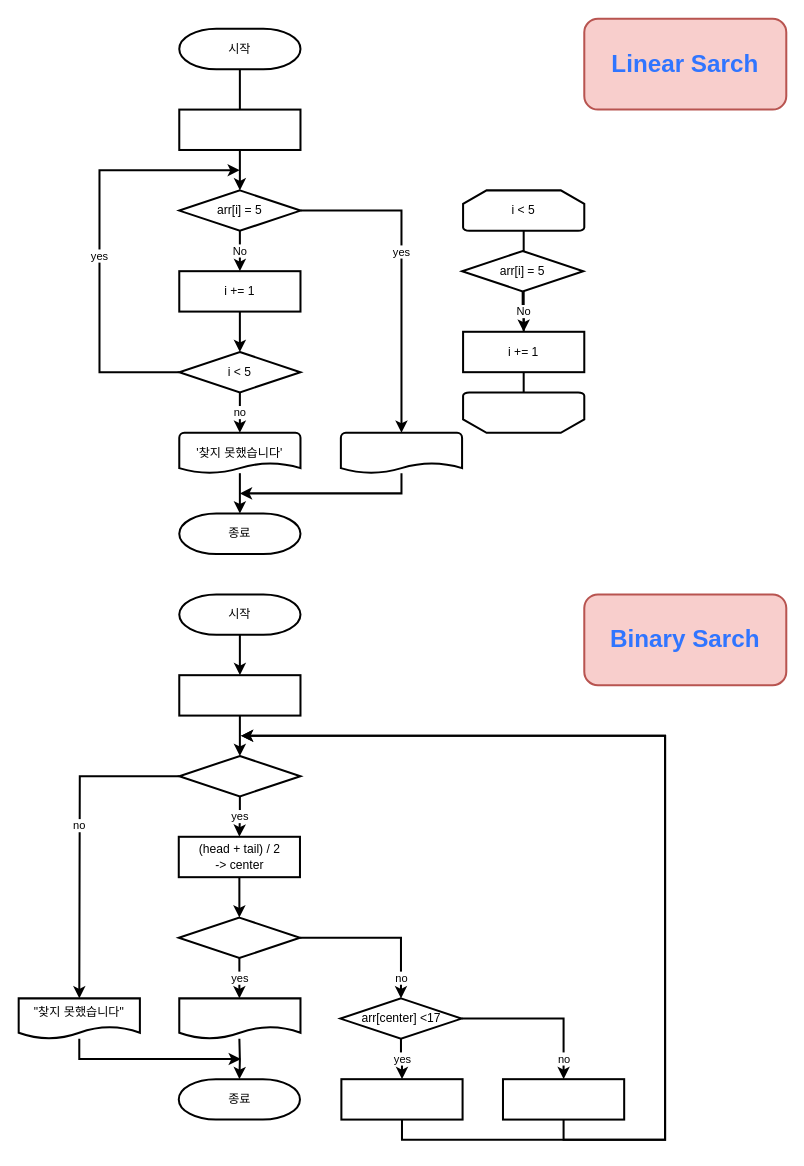
Some shapes in this 804 by 1166 pixel diagram are drawn without their labels. The centre of each missing label's shape, as x and y in pixels:
"center 번째 요소와 일치": (239,1018)
0 -> head 6 -> tail: (239,695)
0 -> i: (239,129)
arr[center] = 17: (238,937)
center + 1 -> head: (401,1099)
center - 1 -> tail: (563,1099)
head <= tail: (239,775)
i번째 요소가 일치: (401,452)
